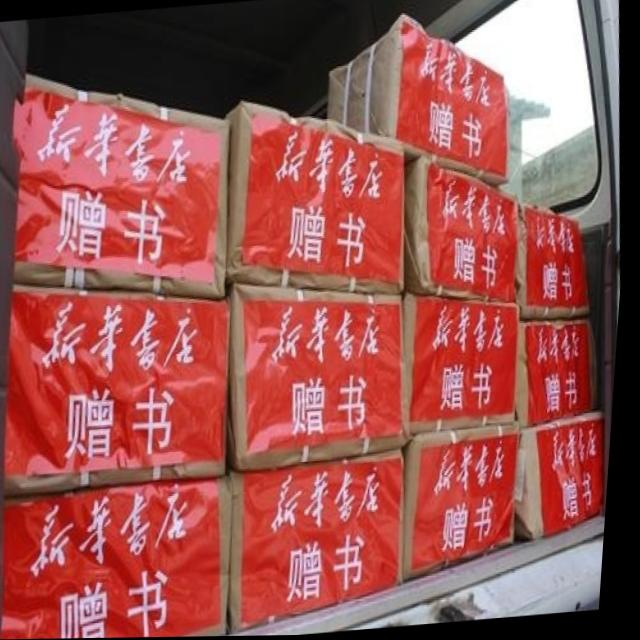box: (18, 73, 232, 298), (10, 283, 235, 496), (5, 476, 239, 640), (228, 285, 418, 477), (225, 100, 408, 291), (236, 451, 412, 635), (328, 14, 510, 186), (411, 420, 529, 585), (404, 290, 525, 438), (407, 156, 521, 304), (523, 410, 612, 545), (521, 315, 604, 429), (519, 202, 596, 318)
